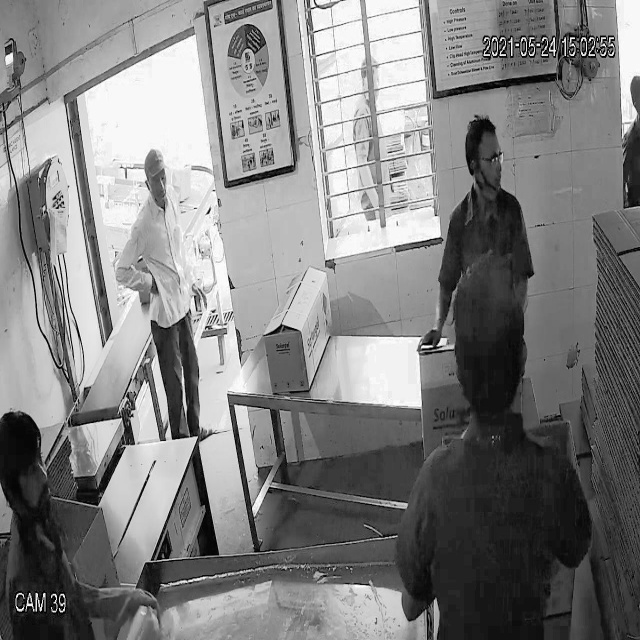Gafas: (462, 145, 508, 177)
